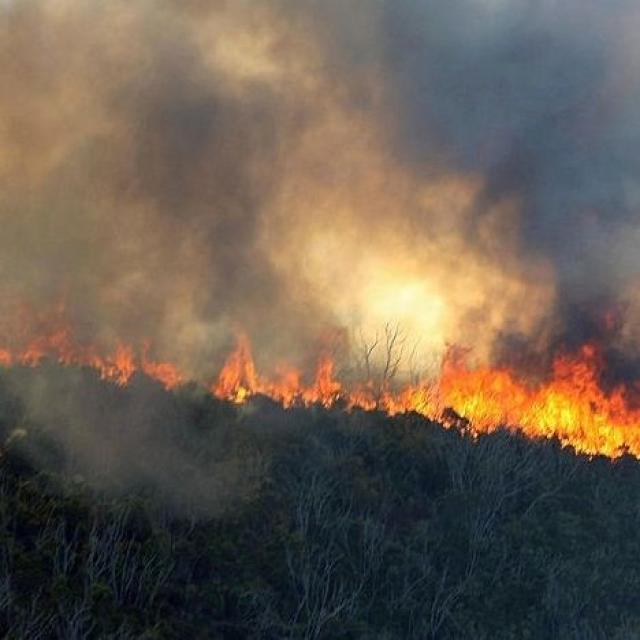Fire: (359, 357, 640, 475), (0, 307, 191, 401), (200, 329, 360, 424)
Smoke: (0, 4, 640, 366)
